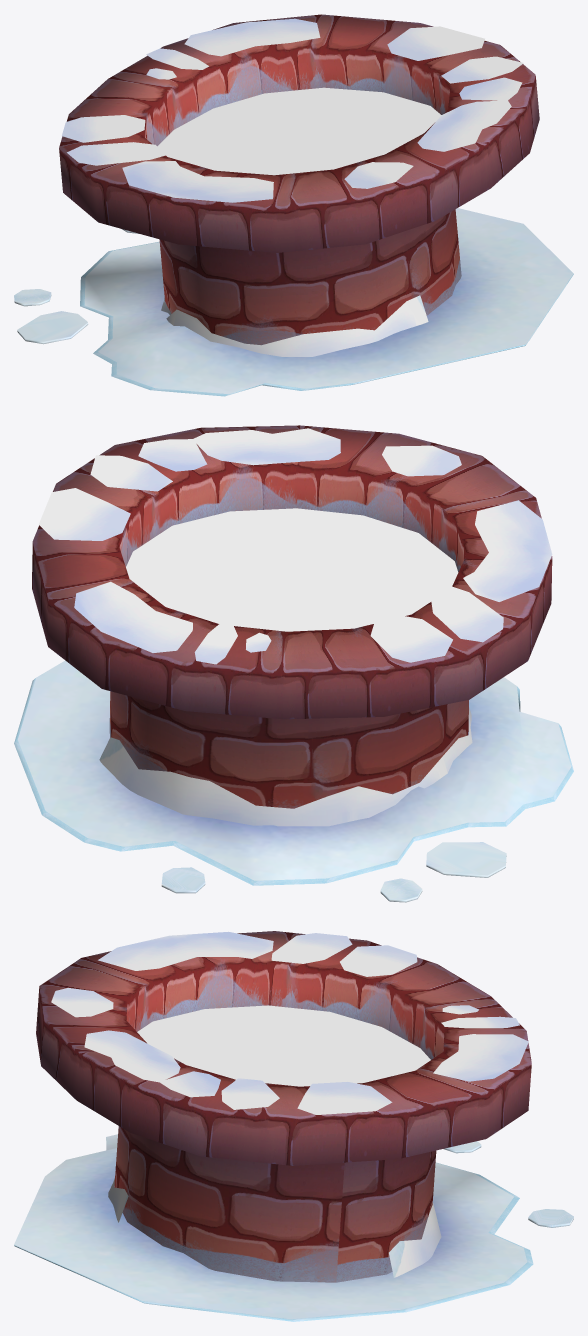
File: WinterParkOdysseyStatue.fbx
3 views of the same model, one above another, from view 1: azimuth 30°, elevation 25°; view 2: azimuth 150°, elevation 25°; view 3: azimuth 270°, elevation 25° (orthographic). The views are drawn at different scales.
Parts seen in each view (by area): view 1: WinterParked; view 2: WinterParked; view 3: WinterParked.
Part boxes in pixels (x1,y1,x2,y2): WinterParked: (14, 14, 573, 396); WinterParked: (14, 425, 573, 902); WinterParked: (14, 931, 573, 1321).
Bounding box in the file's own units: 20.96 × 9.78 × 21.01.
Materials: 2 (1 with a texture image).
